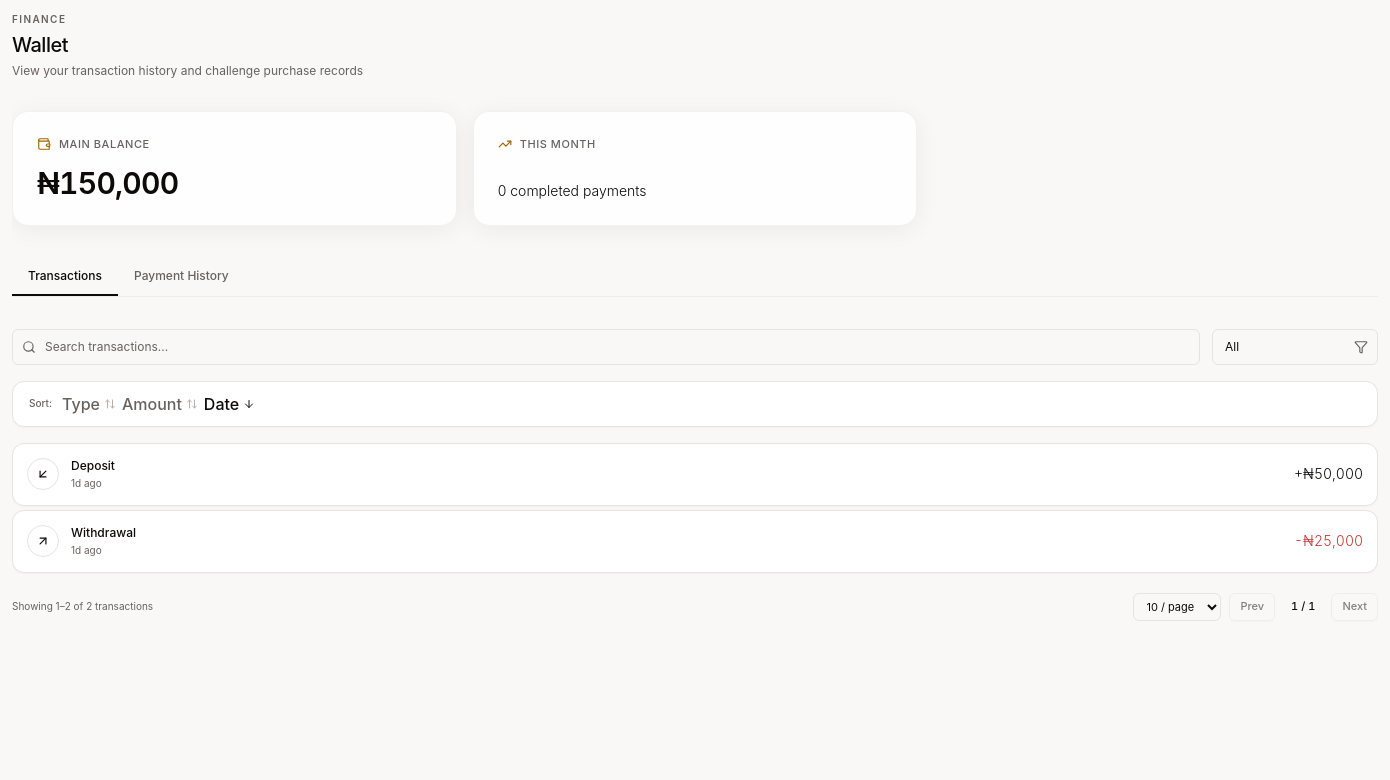
Test case: Wallet Page › Transaction Search › searches by type
In the field with placeholder "Search transactions...": [606, 346] box x1=12 y1=328 x2=1200 y2=364, type "withdrawal"
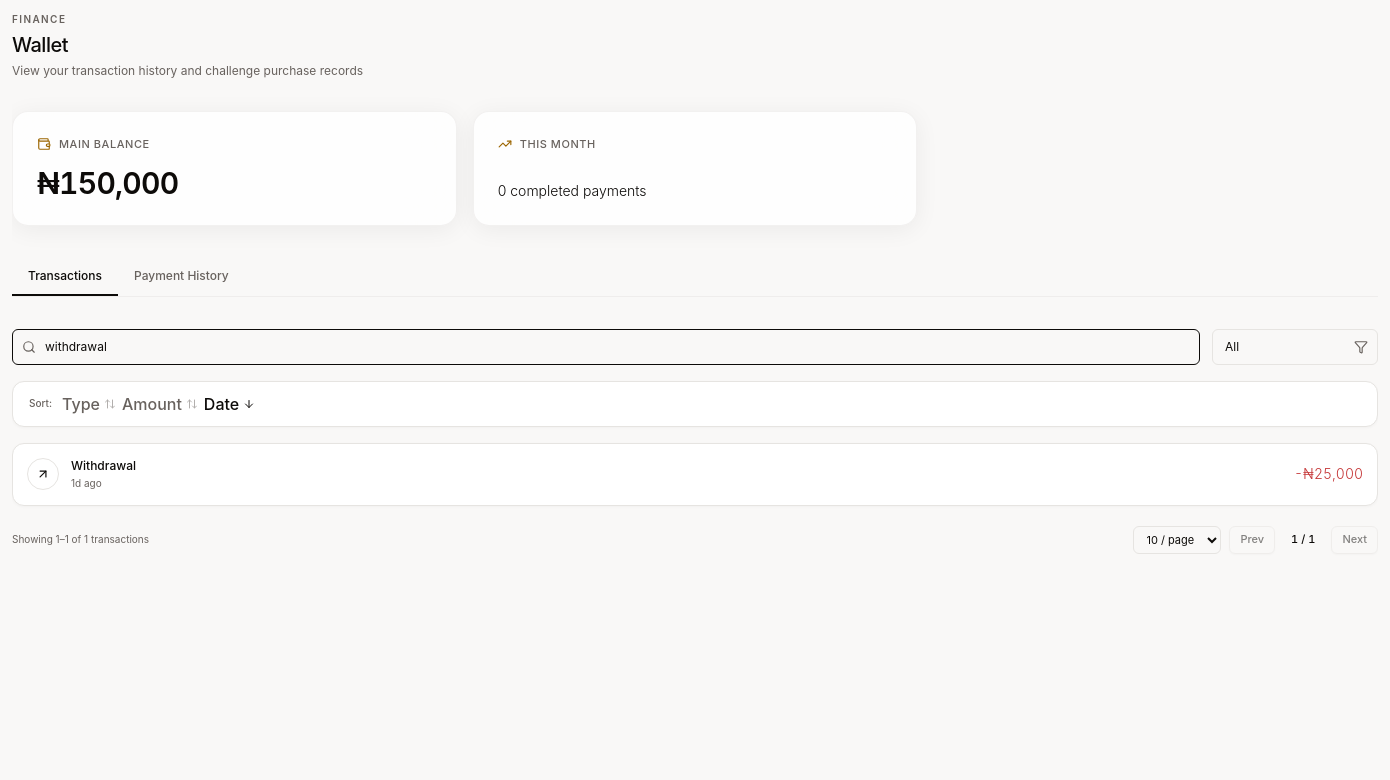
Expected: the text "Withdrawal" is shown, x1=71 y1=458 x2=136 y2=474
Expected: the text "Deposit" is gone
